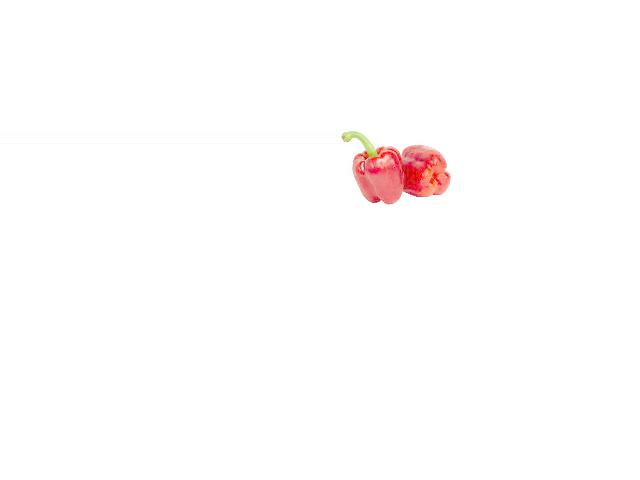bell_pepper: (401, 141, 450, 200)
